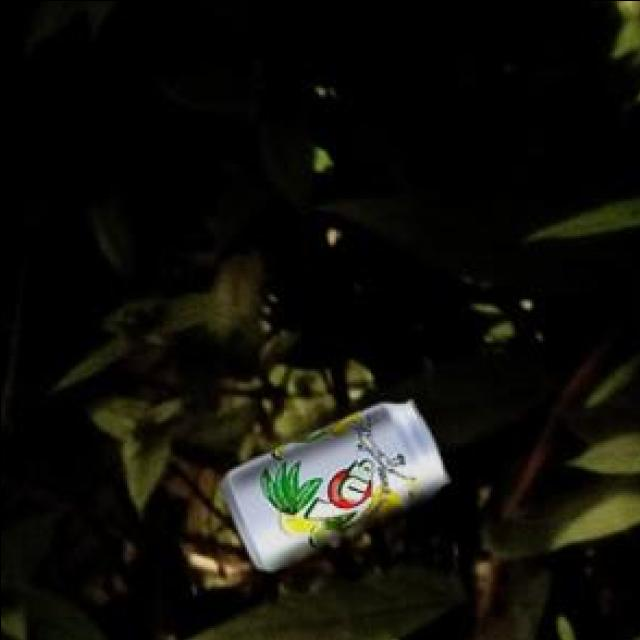logam: (223, 397, 450, 565)
